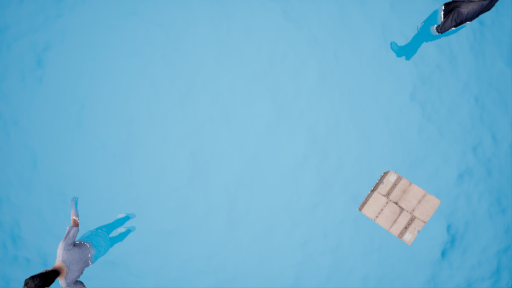person: (19, 197, 142, 288), (397, 1, 507, 76)
